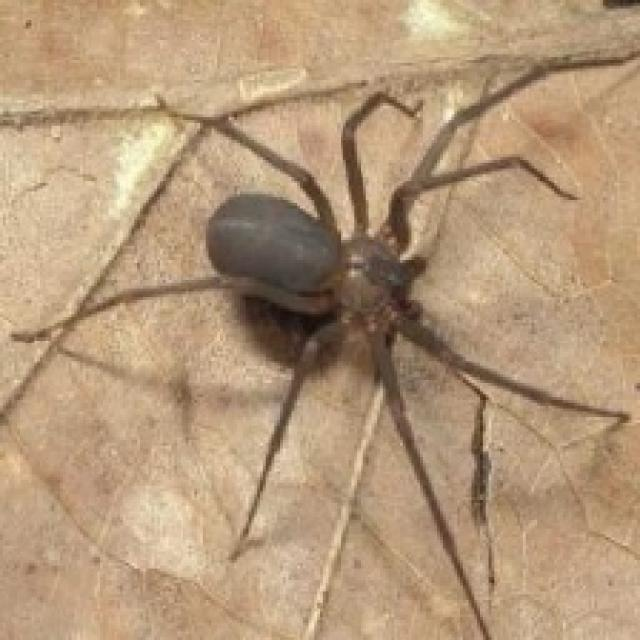Venomous spider: (14, 26, 606, 620)
